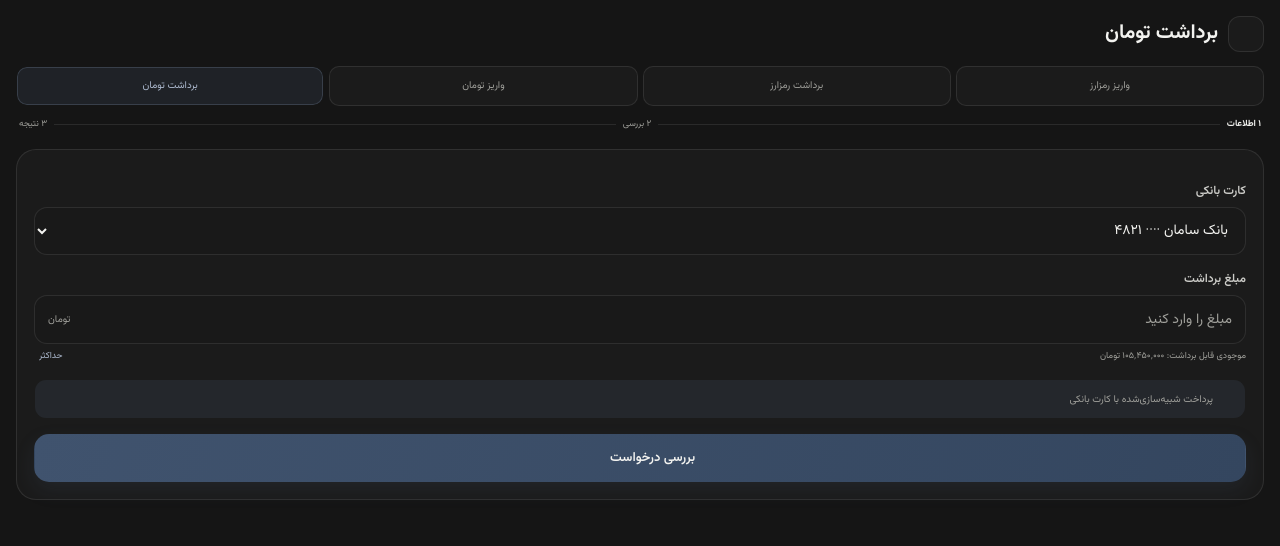
Test: wallet UI interactions › rejects a Toman withdrawal that would leave no room for the fee
The image size is (1280, 546).
Type "۱۰۵٬۴۵۰٬۰۰۰" into the field labelled "مبلغ برداشت" at [656, 320], box [80,308,1232,330]
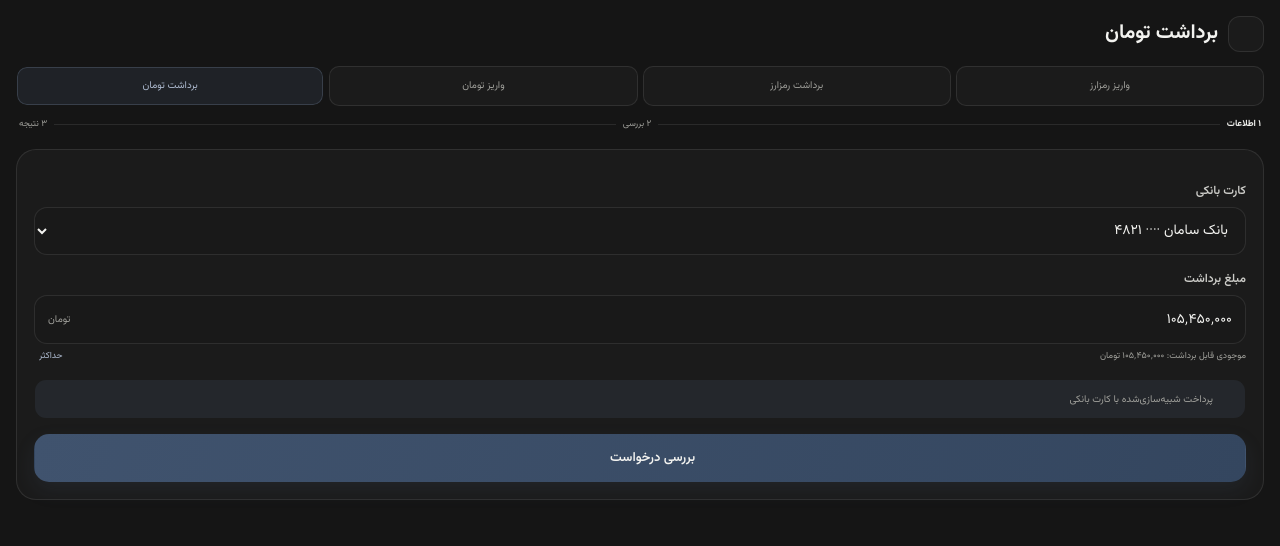
Click the button "بررسی درخواست" at [640, 458], box [34,434,1246,482]
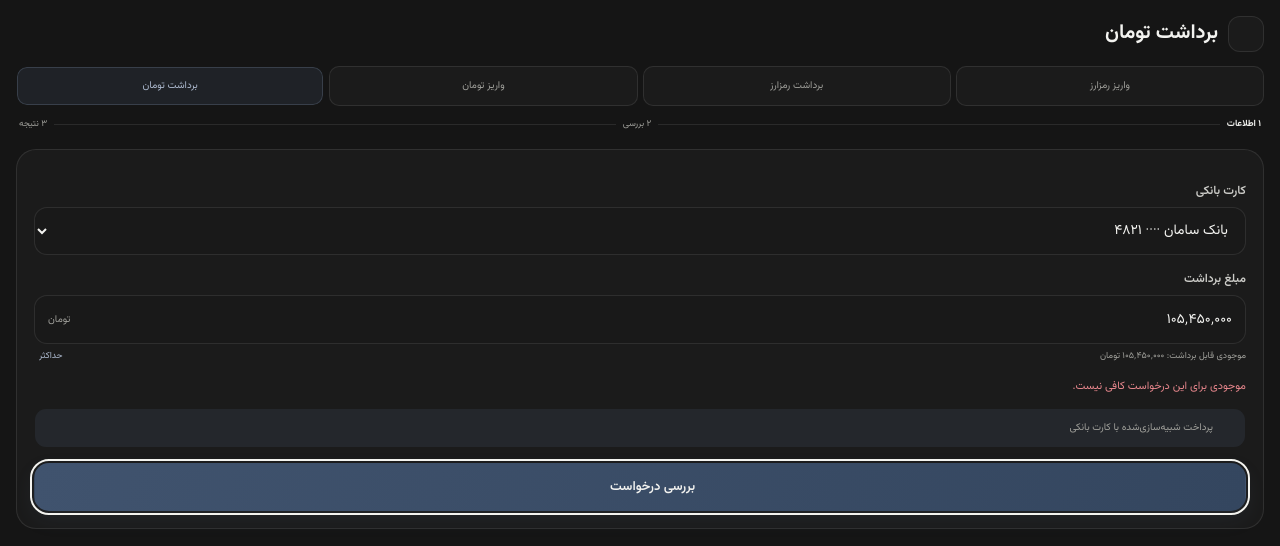
Expected: the message reads "موجودی برای این درخواست کافی نیست.", [1072,378,1246,395]
